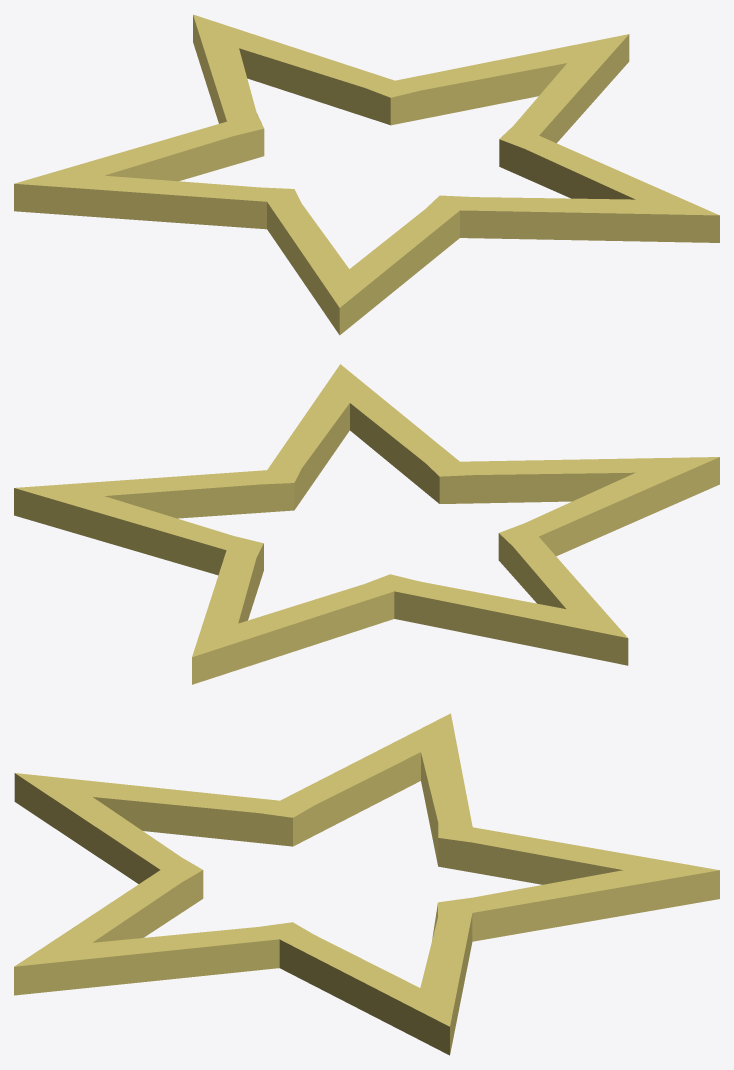
Rendered from star.fbx.
3 views of the same model, one above another, from view 1: azimuth 30°, elevation 25°; view 2: azimuth 150°, elevation 25°; view 3: azimuth 270°, elevation 25° (orthographic). The views are drawn at different scales.
Visible parts, largest first — view 1: star; view 2: star; view 3: star.
Part boxes in pixels (x1,y1,x2,y2): star: (14,14,719,335); star: (14,364,719,684); star: (14,713,719,1055).
Size of the model in its own units: 2.58 by 0.1105 by 2.46.
